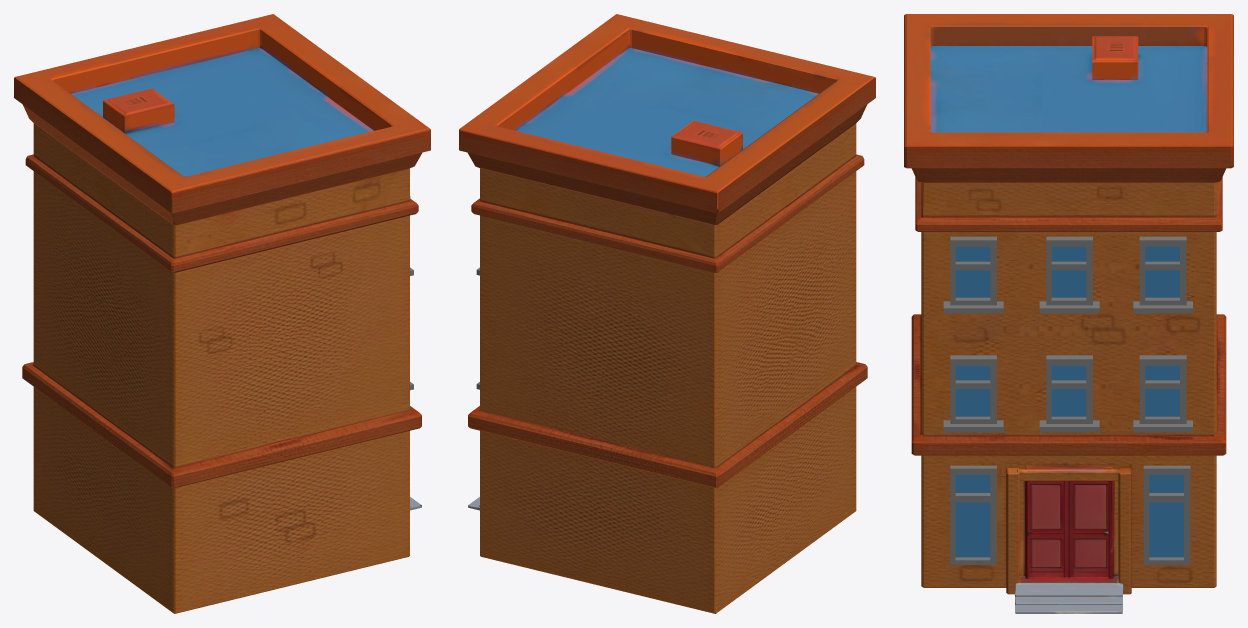
The model's file is buildingOrange.fbx.
3 renders of one model, left to right at view 1: azimuth 30°, elevation 25°; view 2: azimuth 150°, elevation 25°; view 3: azimuth 270°, elevation 25°, orthographic. The views are drawn at different scales.
Parts seen in each view (by area): view 1: polySurface40; view 2: polySurface40; view 3: polySurface40.
Part boxes in pixels (x1,y1,x2,y2): polySurface40: [14, 14, 430, 613]; polySurface40: [459, 14, 875, 613]; polySurface40: [904, 14, 1233, 613].
Bounding box in the file's own units: 69.87 × 94.93 × 63.1.
3 materials, 2 textured.
